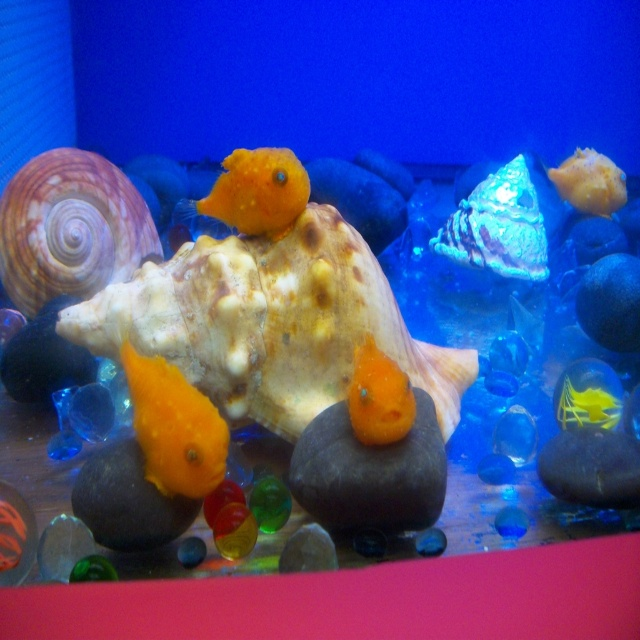Goldfish: (109, 316, 231, 499), (176, 148, 310, 243), (344, 332, 417, 447), (544, 147, 628, 219)
